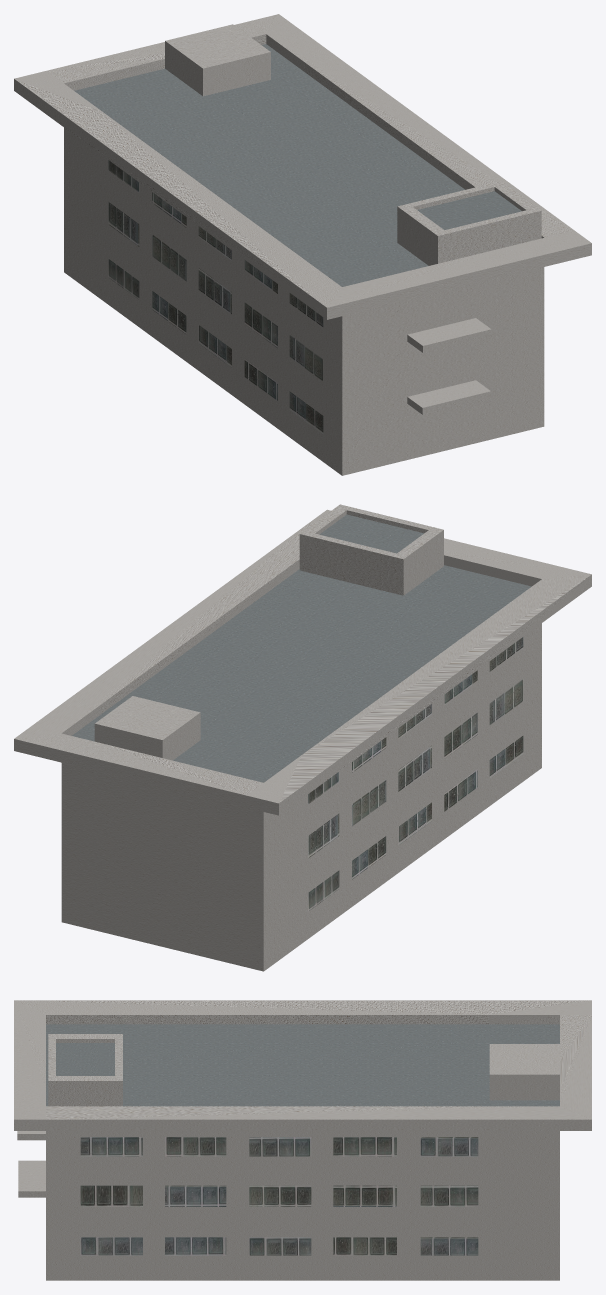
File: 7gokan.fbx
3 renders of one model, top to bottom at view 1: azimuth 30°, elevation 25°; view 2: azimuth 150°, elevation 25°; view 3: azimuth 270°, elevation 25°, orthographic. The views are drawn at different scales.
Visible parts, largest first — view 1: Cube, Cube.001; view 2: Cube, Cube.001; view 3: Cube, Cube.001.
Boxes of the visible parts, left/top/right/bottom form: Cube: left=14, top=14, right=591, bottom=475; Cube.001: left=397, top=181, right=541, bottom=265; Cube: left=14, top=509, right=591, bottom=971; Cube.001: left=299, top=504, right=443, bottom=595; Cube: left=14, top=1000, right=591, bottom=1280; Cube.001: left=48, top=1034, right=122, bottom=1106.
Bounding box in the file's own units: 811 × 630 × 1660.
